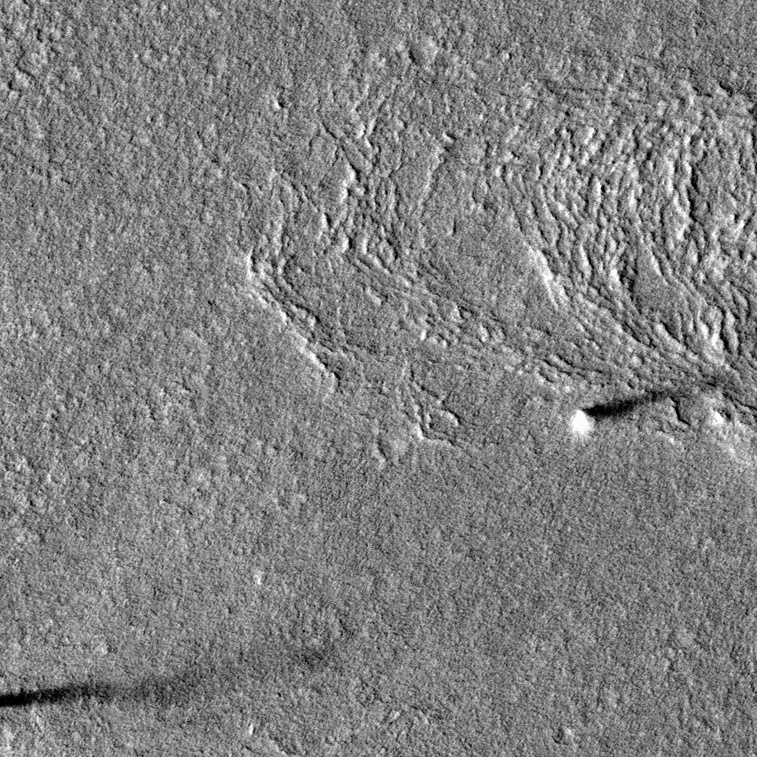dust_devil: (561, 370, 737, 446)
